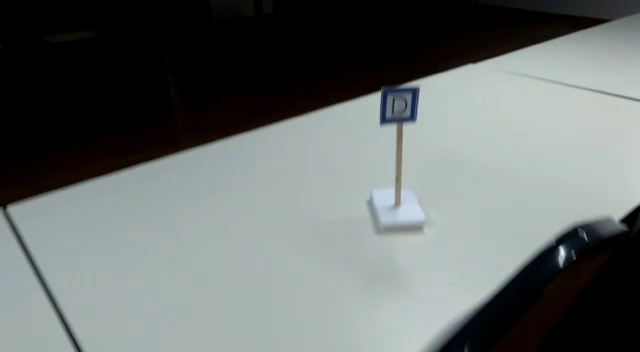durak: (380, 87, 419, 124)
